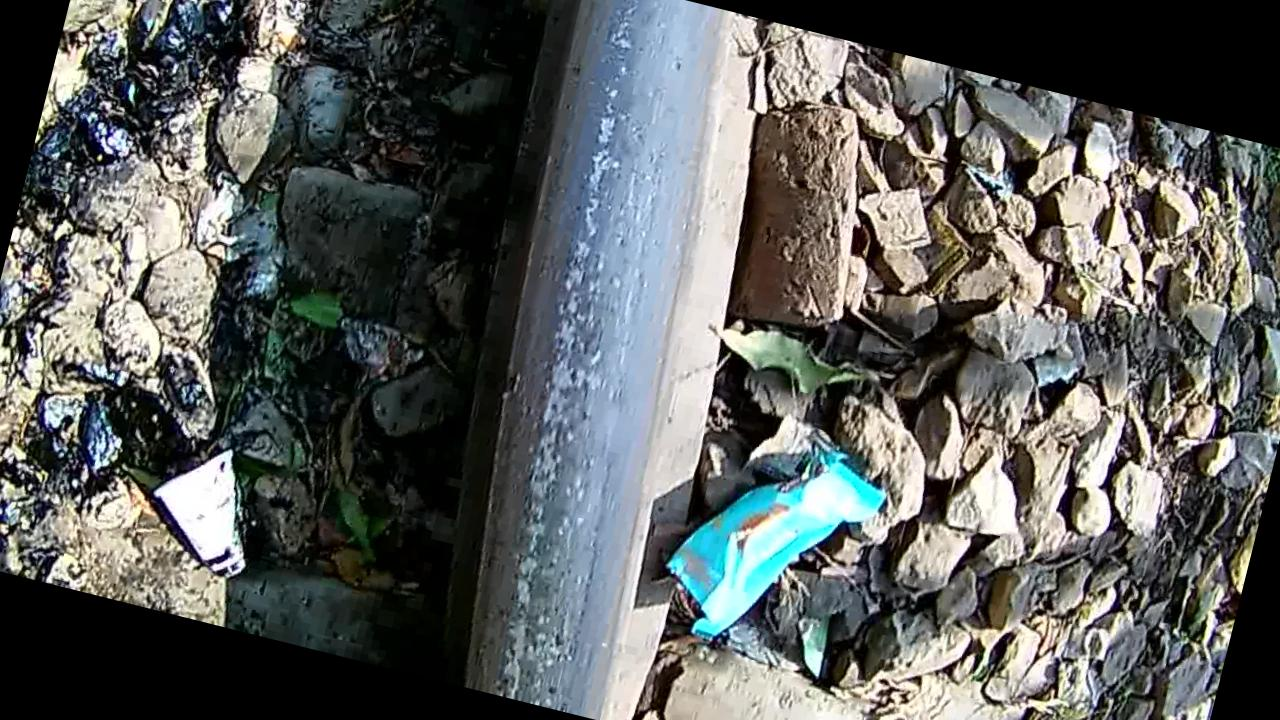clip_missing: (393, 0, 764, 718)
